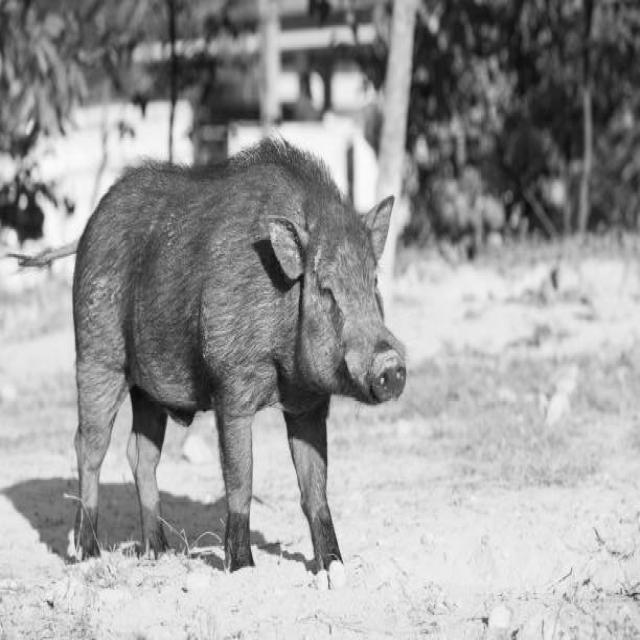boar: (73, 140, 407, 573)
